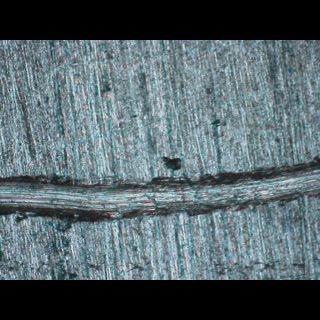d: (0, 153, 319, 224)
